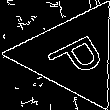P_NE: (37, 26, 109, 83)
